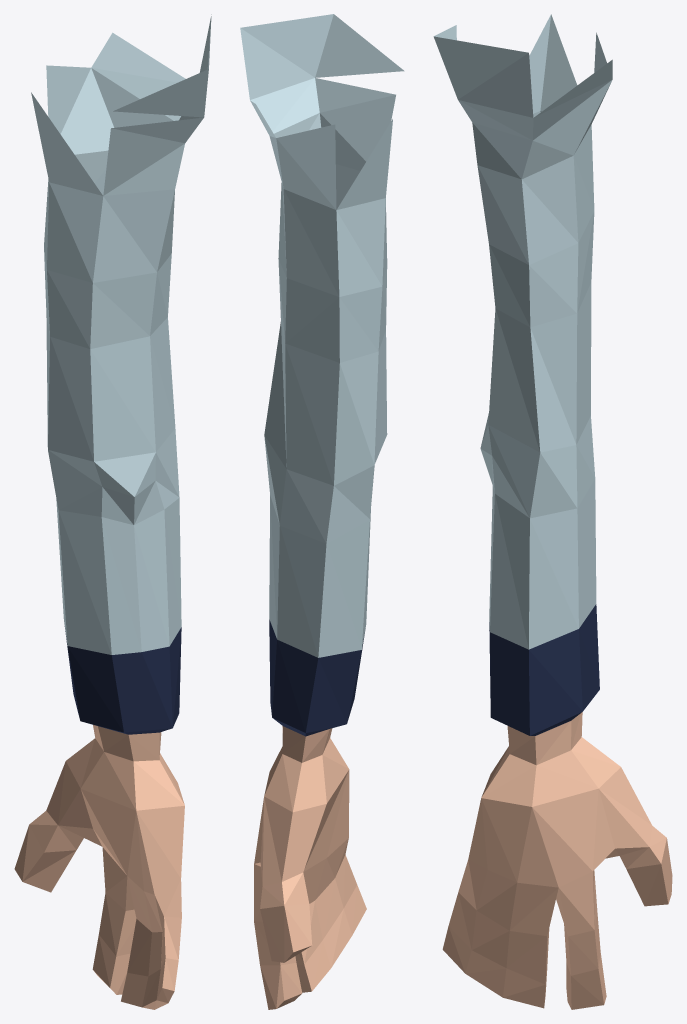
The model's file is ArmR.obj.
3 views of the same model, side by side, from view 1: azimuth 30°, elevation 25°; view 2: azimuth 150°, elevation 25°; view 3: azimuth 270°, elevation 25° (orthographic). The views are drawn at different scales.
Bounding box in the file's own units: 0.1566 × 0.8641 × 0.1891.
1 material, 1 textured.
